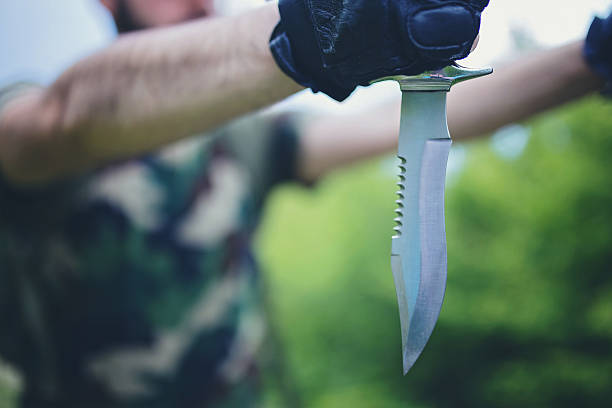knife: (358, 64, 495, 378)
